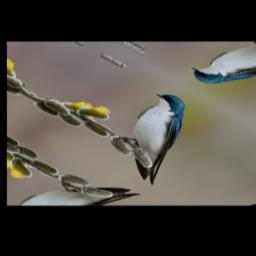Swallow: (82, 88, 232, 186)
